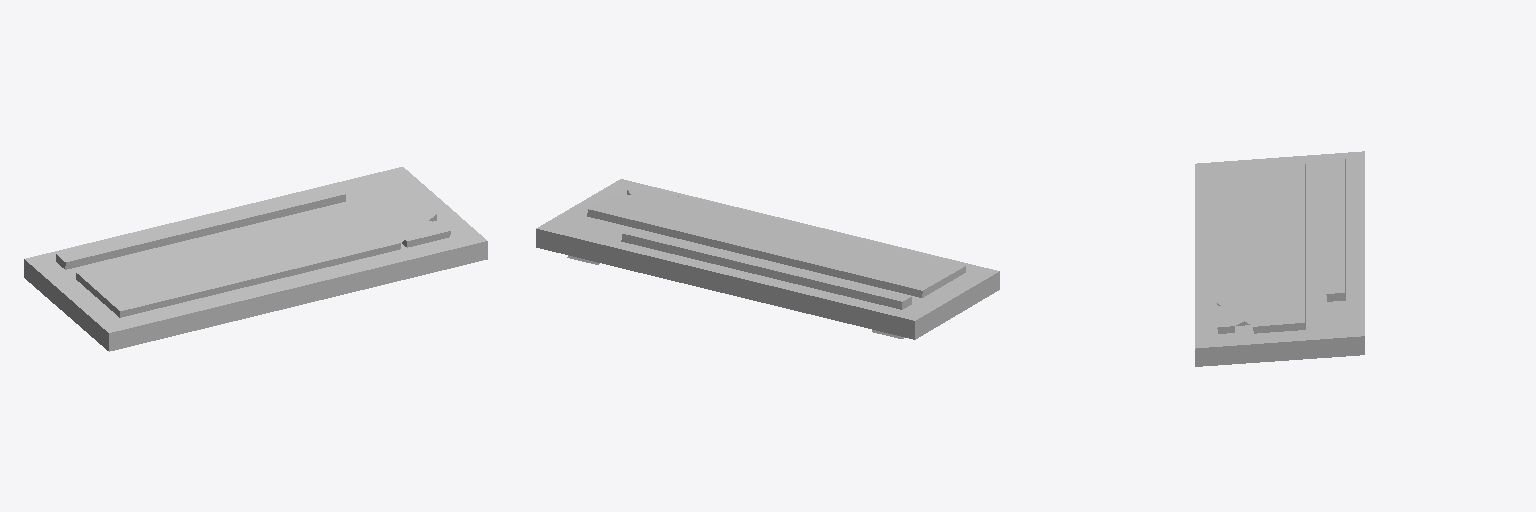
Rendered from Computer_Old_Keyboard.obj.
3 views of the same model, side by side, from view 1: azimuth 30°, elevation 25°; view 2: azimuth 150°, elevation 25°; view 3: azimuth 270°, elevation 25° (orthographic).
Visible parts, largest first — view 1: Computer_Old_Keyboard; view 2: Computer_Old_Keyboard; view 3: Computer_Old_Keyboard.
Part boxes in pixels (x1,y1,x2,y2): Computer_Old_Keyboard: (24,167,487,351); Computer_Old_Keyboard: (536,179,999,339); Computer_Old_Keyboard: (1195,151,1364,366).
Bounding box in the file's own units: 0.4386 × 0.0415 × 0.17.